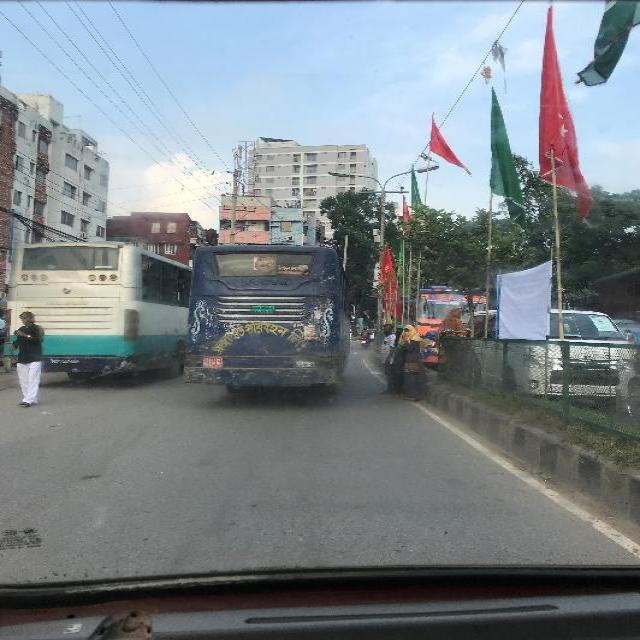10: (359, 326, 370, 349)
19: (522, 309, 633, 407)
Truck: (180, 244, 349, 398), (2, 240, 180, 380)
